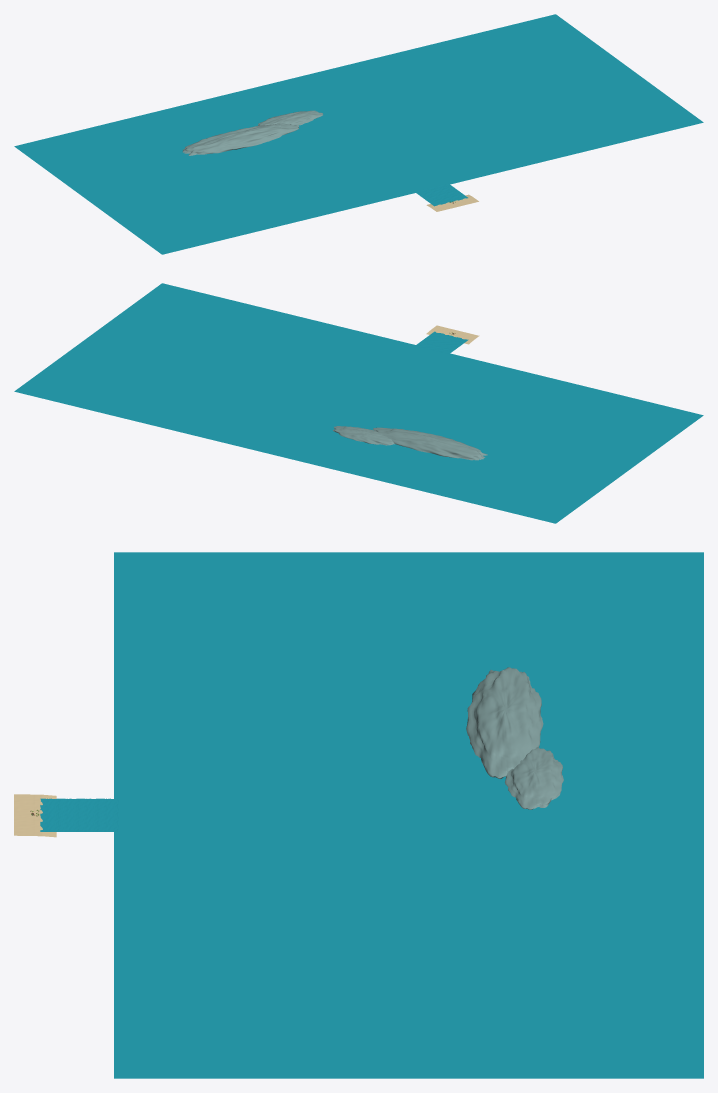
Rendered from seaside-bungalow.glb.
3 renders of one model, top to bottom at view 1: azimuth 30°, elevation 25°; view 2: azimuth 150°, elevation 25°; view 3: azimuth 270°, elevation 25°, orthographic. The views are drawn at different scales.
Visible parts, largest first — view 1: Ocean_Far, Island_Far, Ocean_Near, Island_Far2; view 2: Ocean_Far, Island_Far, Island_Far2, Ocean_Near; view 3: Ocean_Far, Island_Far, Island_Far2, Ocean_Near, Beach_Sand.
Part boxes in pixels (<box>): Ocean_Far: <box>14,14,703,254</box>; Island_Far: <box>182,123,299,155</box>; Ocean_Near: <box>415,183,467,206</box>; Island_Far2: <box>258,110,323,125</box>; Ocean_Far: <box>14,283,703,523</box>; Island_Far: <box>373,427,487,460</box>; Island_Far2: <box>333,426,394,445</box>; Ocean_Near: <box>415,331,468,354</box>; Ocean_Far: <box>114,552,703,1078</box>; Island_Far: <box>466,667,543,778</box>; Island_Far2: <box>505,747,563,809</box>; Ocean_Near: <box>40,798,118,831</box>; Beach_Sand: <box>14,794,56,837</box>.
Bounding box in the file's own units: 3800 × 115 × 2105.
